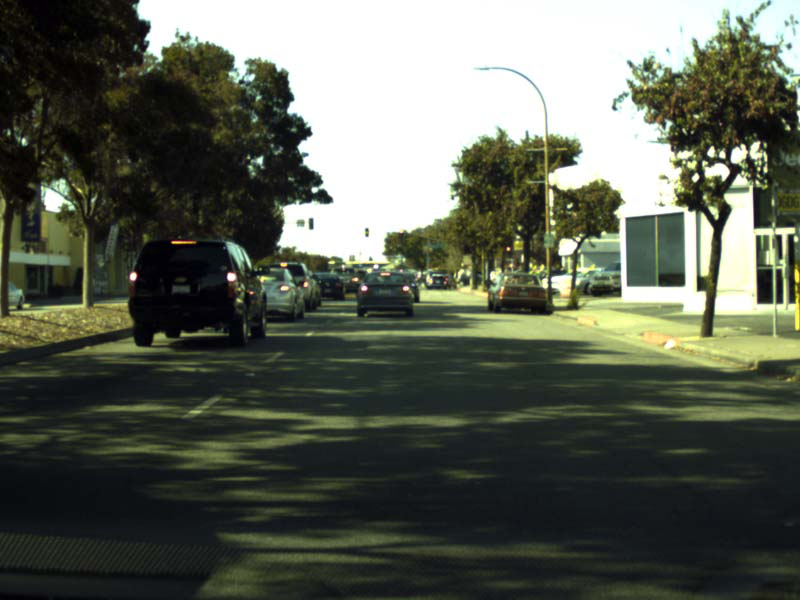Green: (365, 228, 368, 236)
Red: (399, 228, 402, 238)
Yellow: (505, 241, 511, 257)
